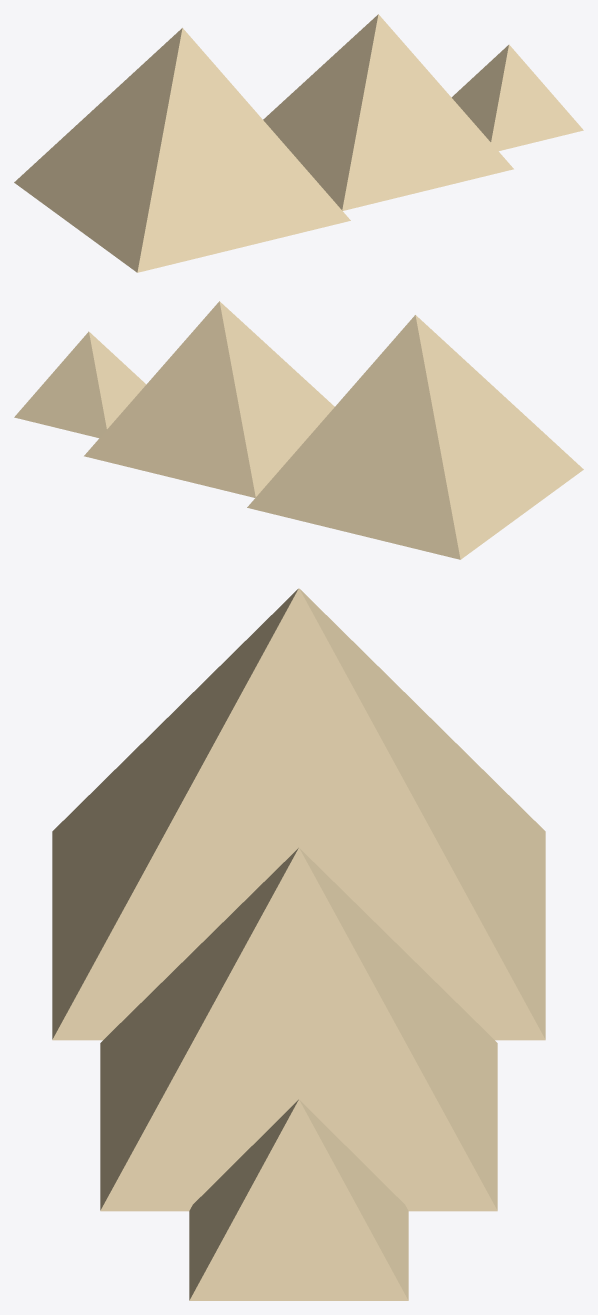
Rendered from LM_Pyramids.fbx.
3 views of the same model, one above another, from view 1: azimuth 30°, elevation 25°; view 2: azimuth 150°, elevation 25°; view 3: azimuth 270°, elevation 25° (orthographic). The views are drawn at different scales.
Visible parts, largest first — view 1: LM_Pyramids; view 2: LM_Pyramids; view 3: LM_Pyramids.
Part boxes in pixels (<box>): LM_Pyramids: <box>14,14,583,272</box>; LM_Pyramids: <box>14,301,583,559</box>; LM_Pyramids: <box>52,588,545,1300</box>.
Size of the model in its own units: 162 by 56 by 72.
